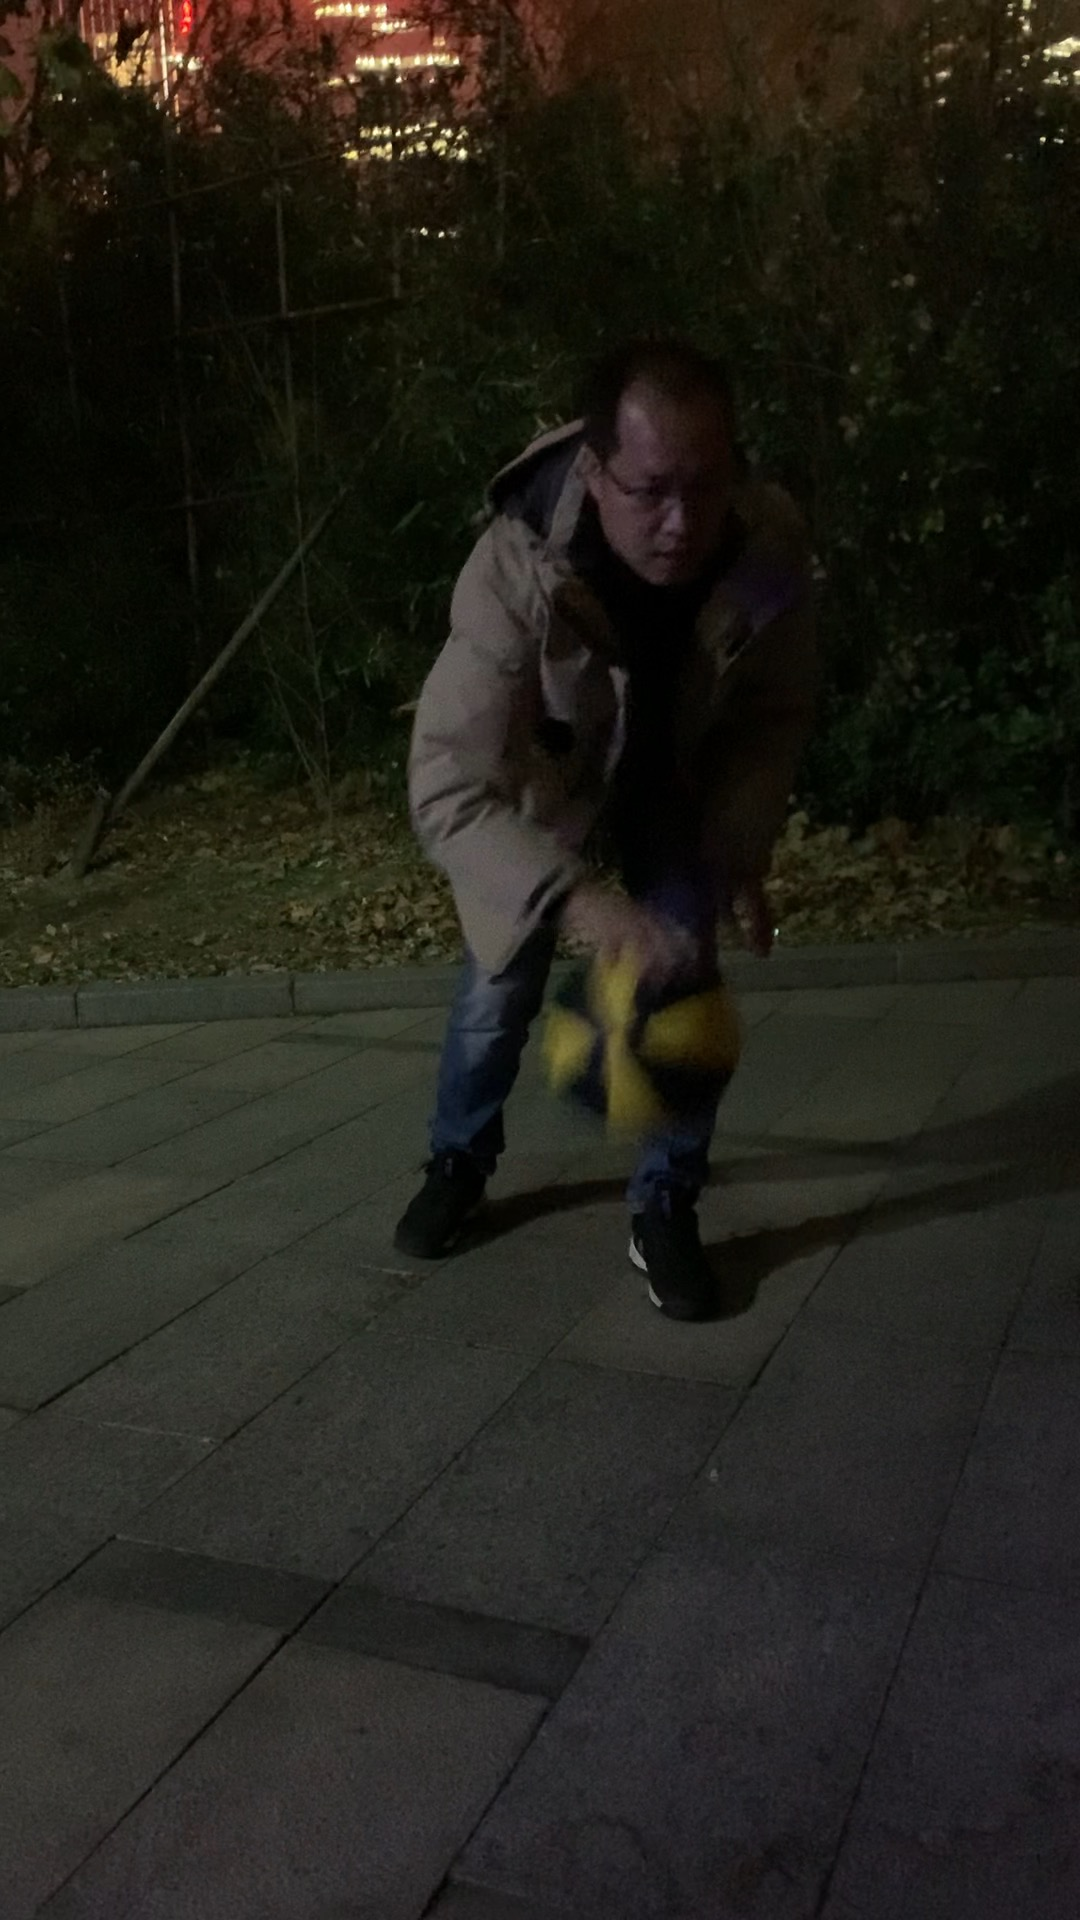ball: (541, 939, 744, 1141)
